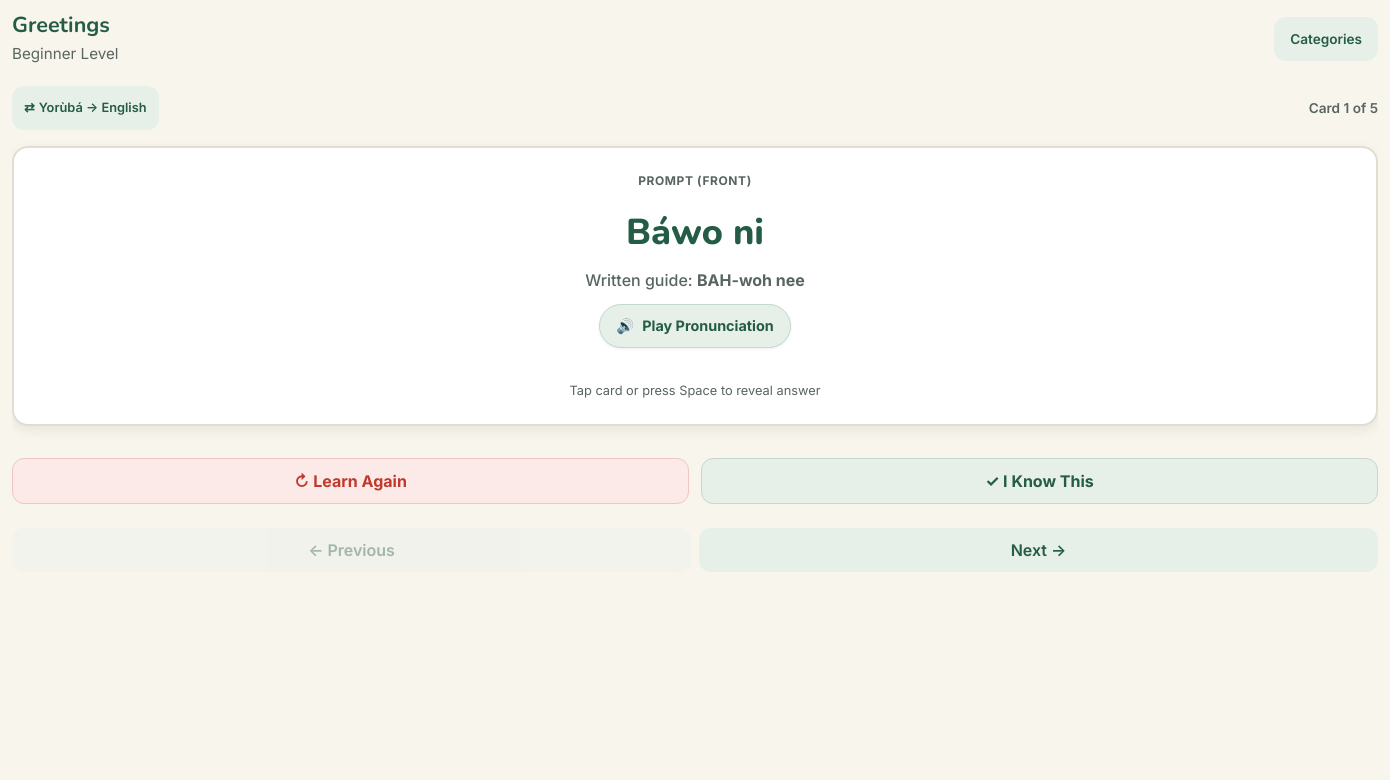
Test: Interactive Flashcards Screen › displays written pronunciation guide and plays pronunciation audio
This screenshot has width=1390, height=780.
Expected: the text "BAH-woh nee" is shown, top-left (697, 270), bottom-right (805, 290)
# Clicking the audio button should trigger speech
Click the button with aria-label "Pronounce Báwo ni": (695, 326) top-left (599, 304), bottom-right (791, 348)
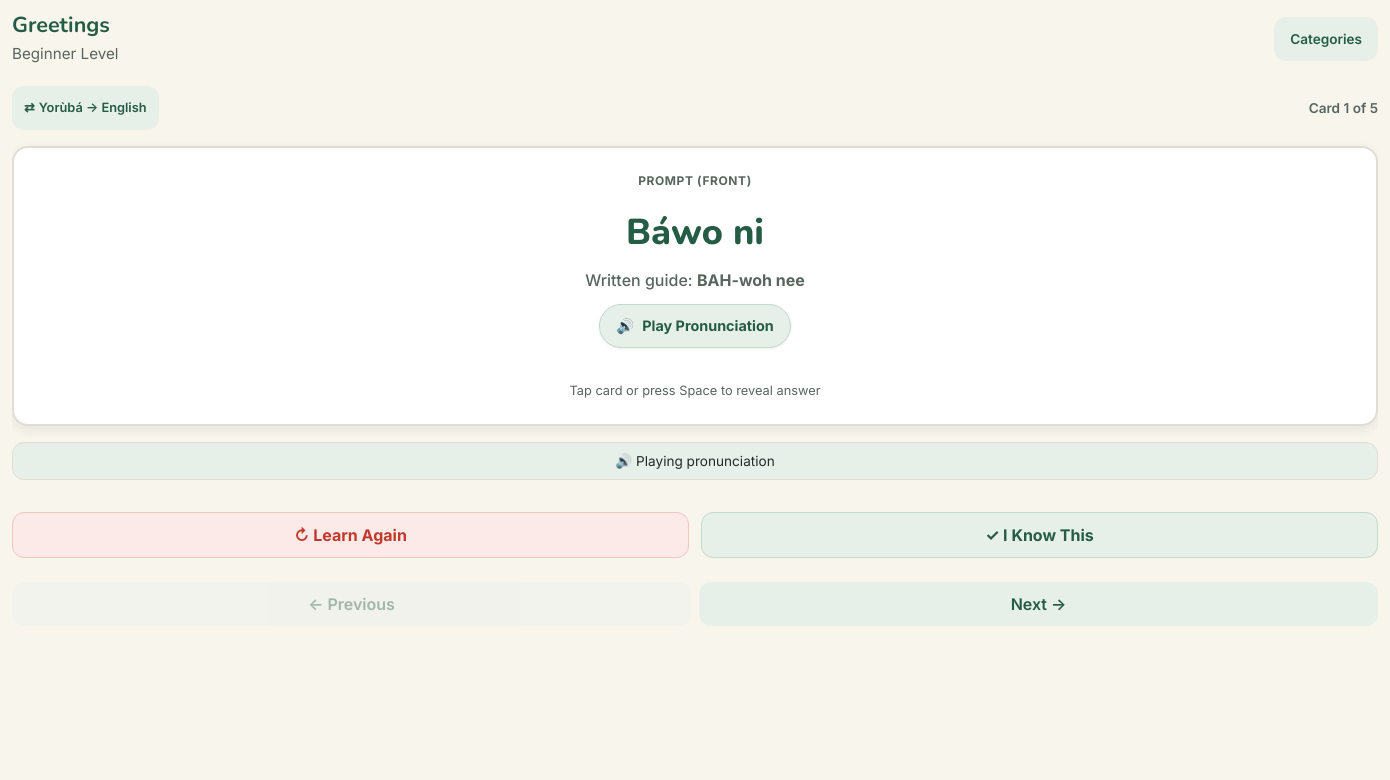
Result: the message "🔊 Playing pronunciation" is shown at top-left (12, 442), bottom-right (1378, 480)
